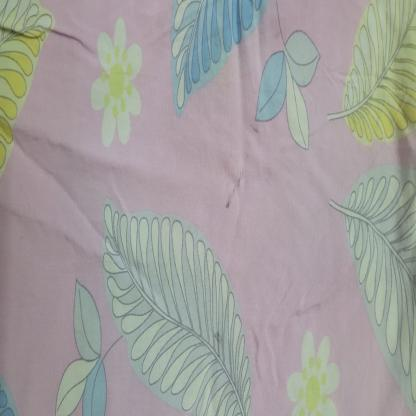spot: (221, 168, 256, 214), (249, 111, 268, 142), (212, 318, 227, 351)
